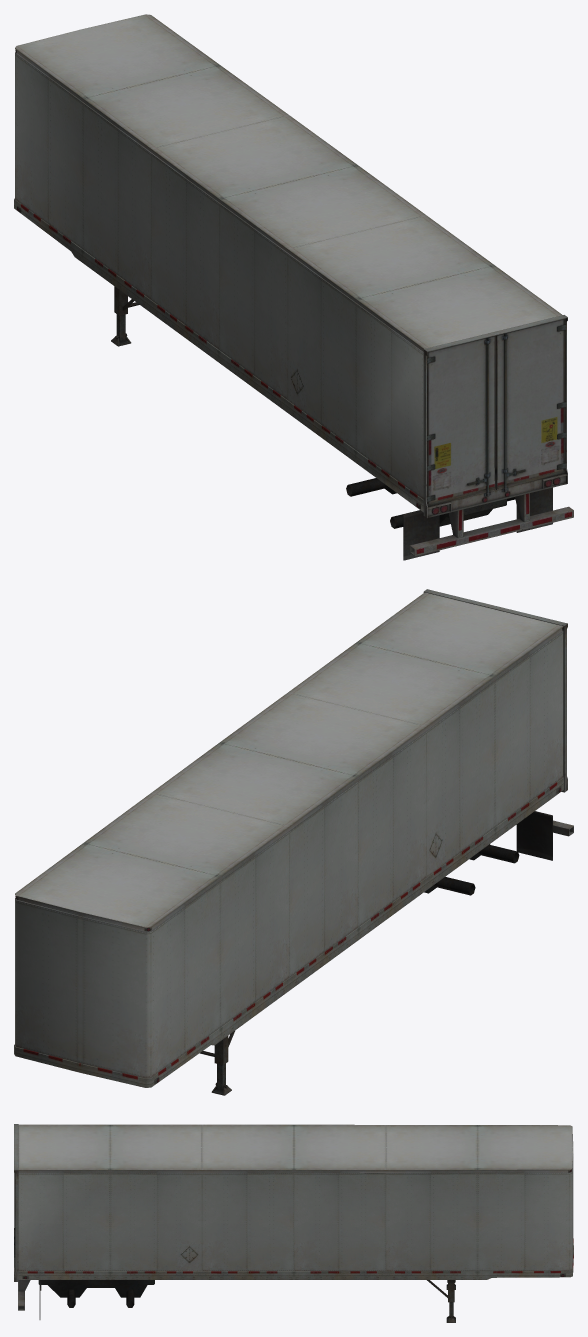
Rendered from freightbox.FBX.
3 renders of one model, top to bottom at view 1: azimuth 30°, elevation 25°; view 2: azimuth 150°, elevation 25°; view 3: azimuth 270°, elevation 25°, orthographic. The views are drawn at different scales.
Visible parts, largest first — view 1: boxfreight, rearaxles; view 2: boxfreight, rearaxles; view 3: boxfreight, rearaxles.
Part boxes in pixels (x1,y1,x2,y2): boxfreight: (14,14,573,560); rearaxles: (346,478,515,528); boxfreight: (14,589,573,1087); rearaxles: (434,844,519,895); boxfreight: (14,1124,573,1319); rearaxles: (67,1289,134,1307).
Size of the model in its own units: 118 by 166 by 535.
